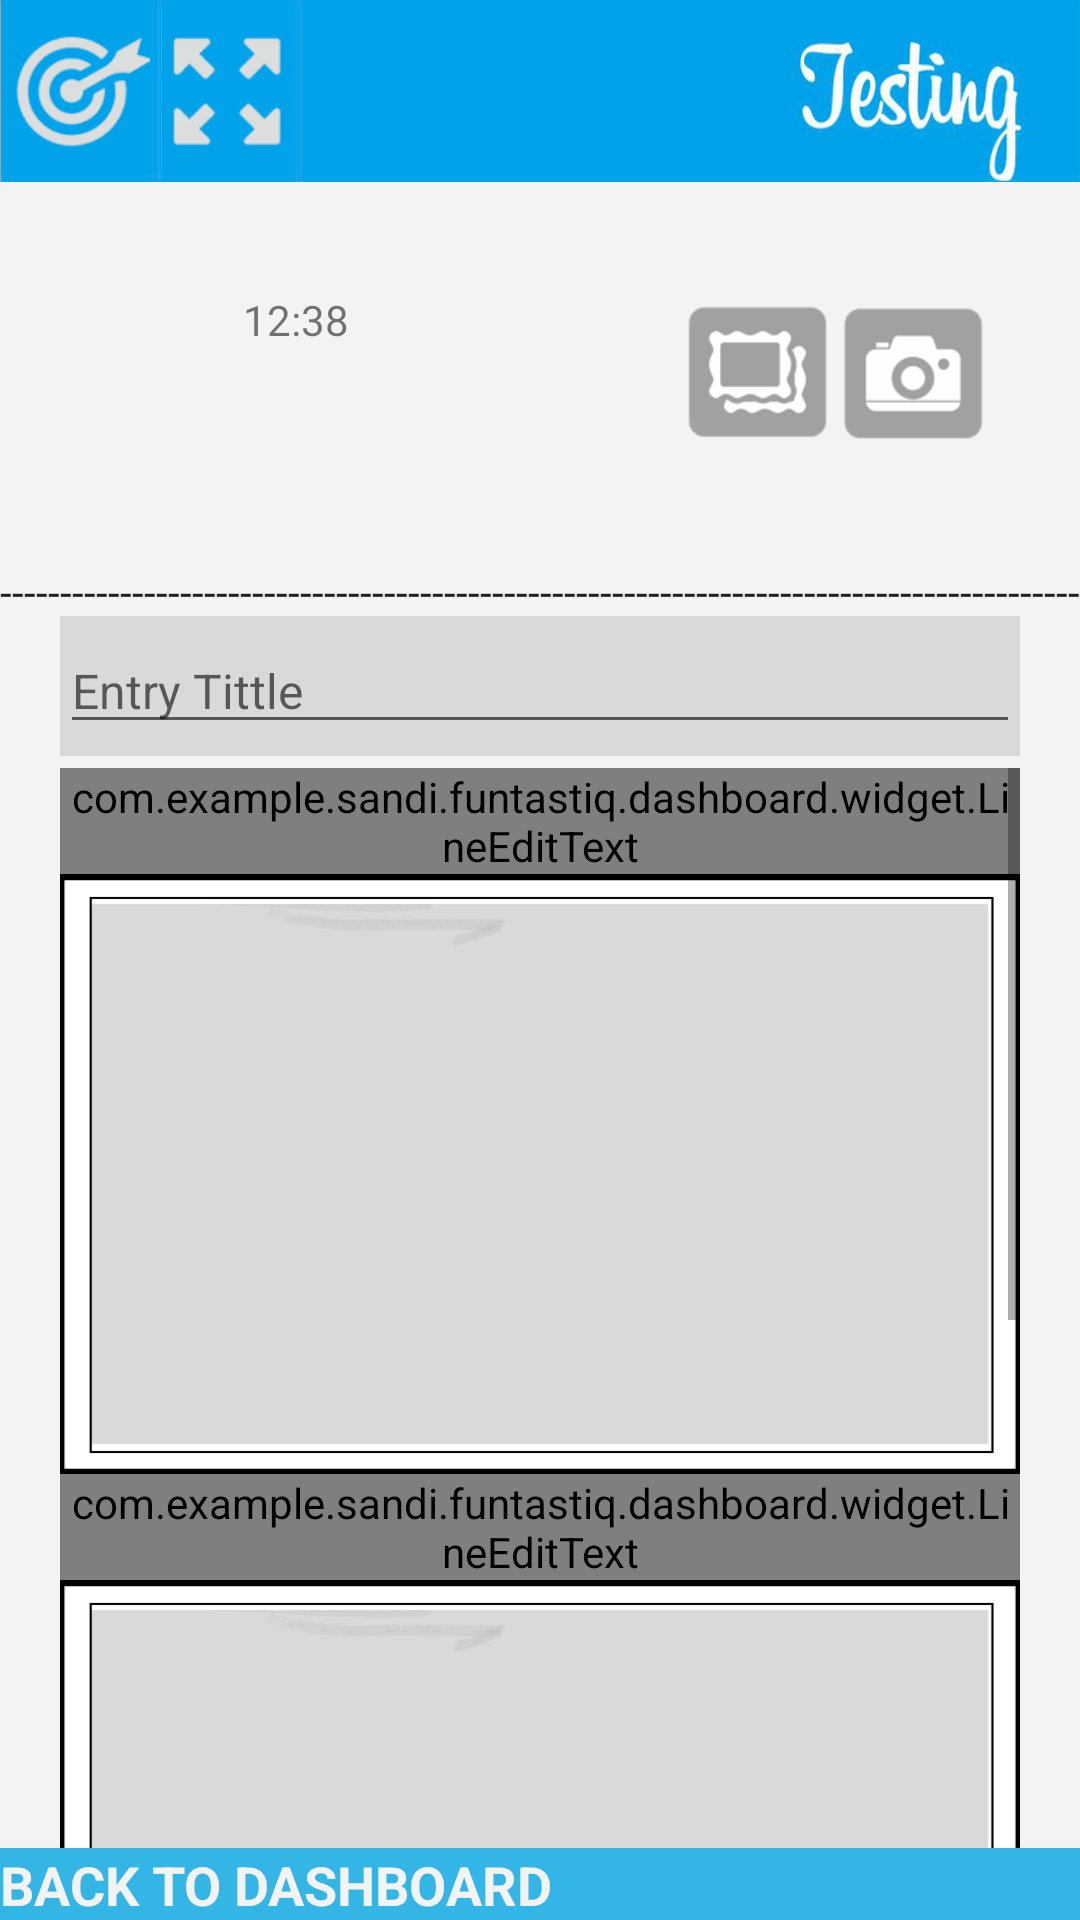

Icon click points for this 1080x1920 phone screenshot, format (x,y):
camera: (913,373)
gallery: (757,372)
mission: (75,91)
